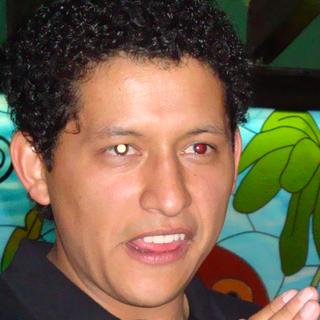eye: (167, 135, 224, 166), (93, 138, 150, 166)
